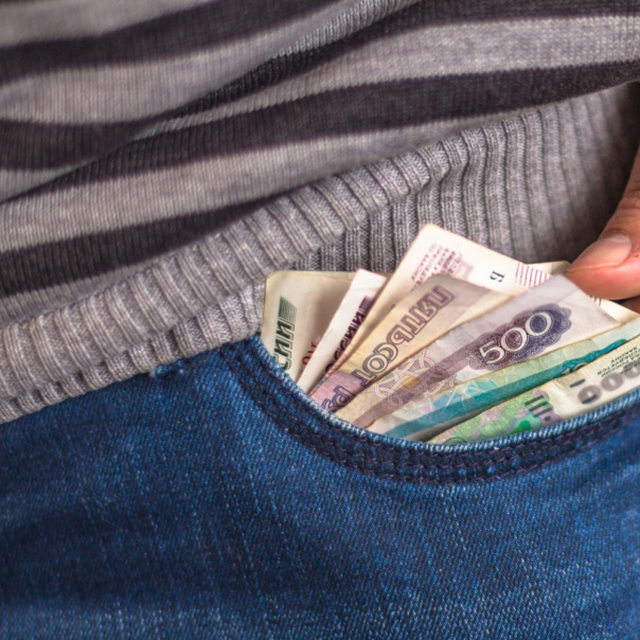banknotes: (259, 231, 640, 443)
